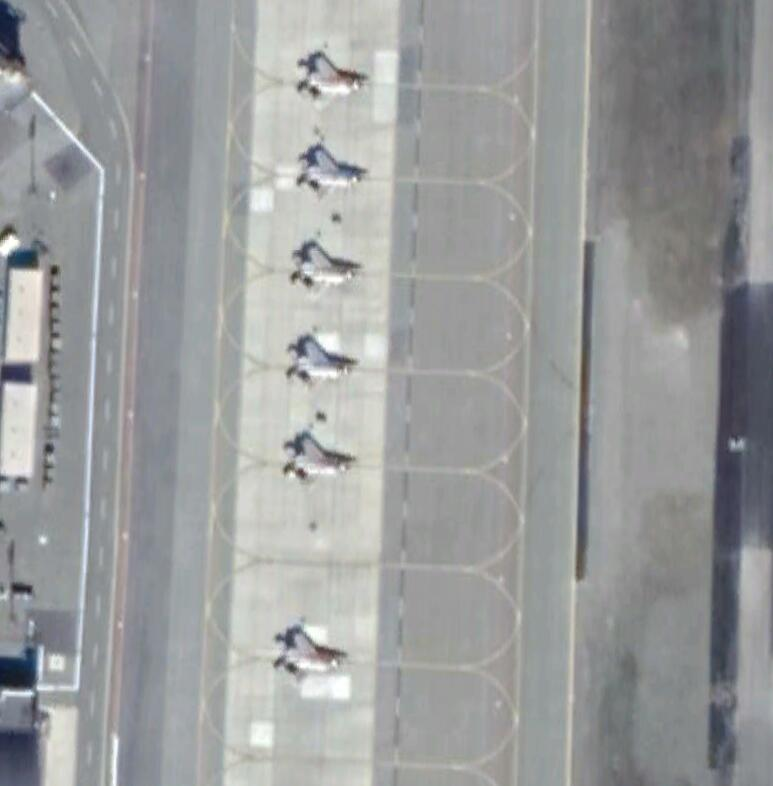A15: (282, 431, 360, 492), (274, 627, 350, 688), (291, 242, 368, 299), (296, 52, 371, 110), (288, 334, 361, 390), (297, 147, 371, 200)
